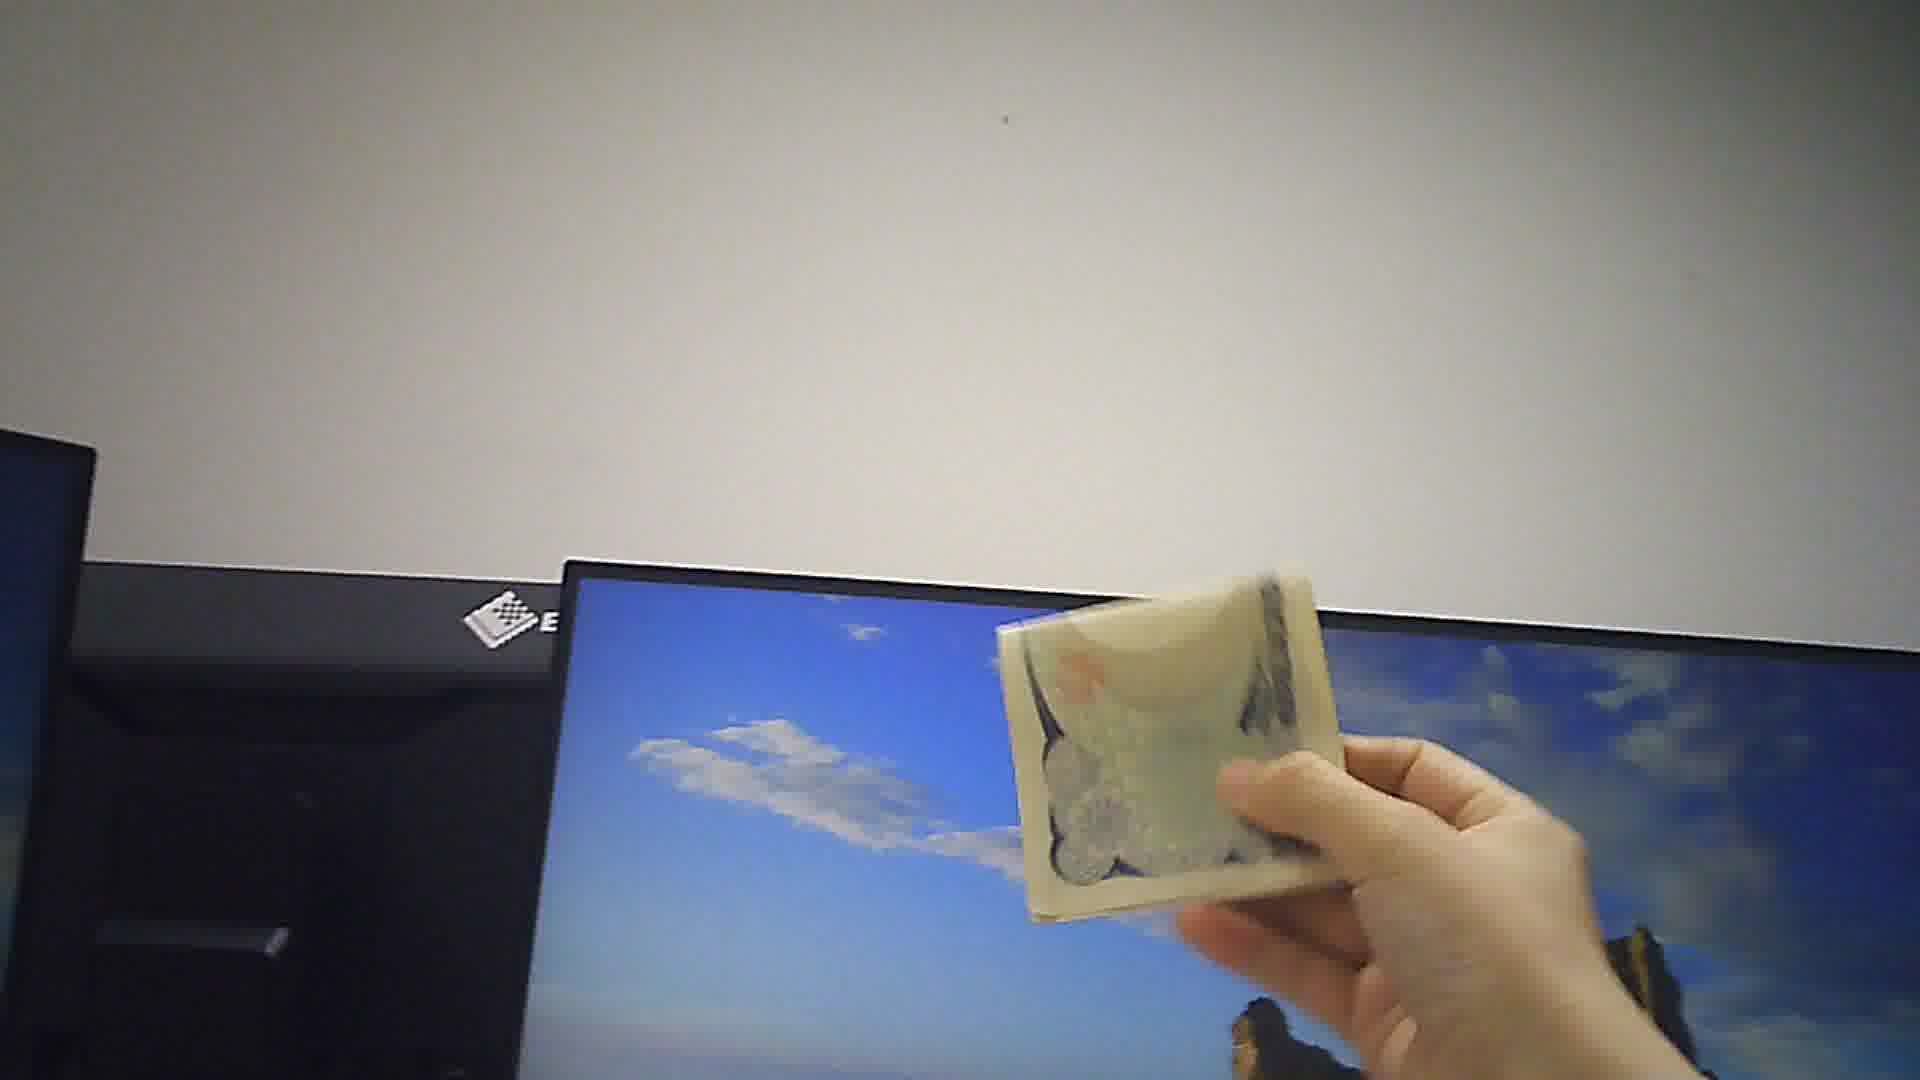1,000 Yen: (982, 568, 1367, 936)
